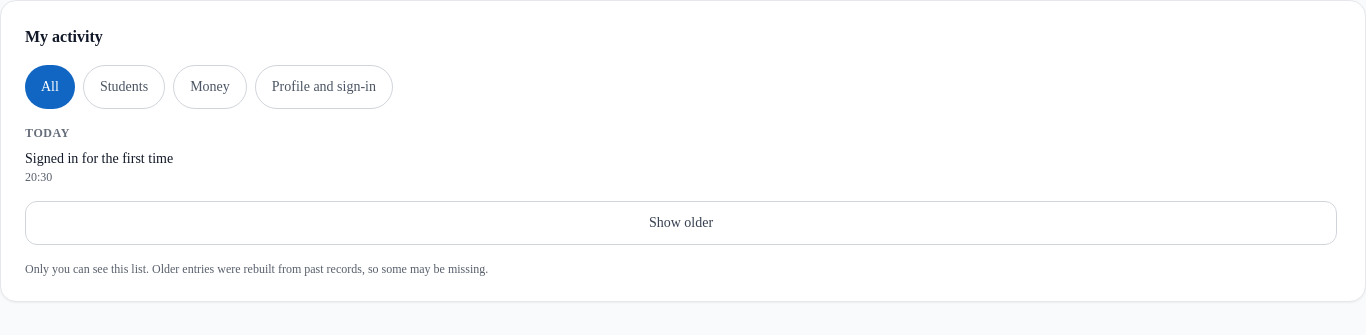
Show older asks for the next page with the cursor, appends it, and goes when there is no more
Click the button "Show older".
click(681, 223)  # box x1=25 y1=201 x2=1337 y2=245
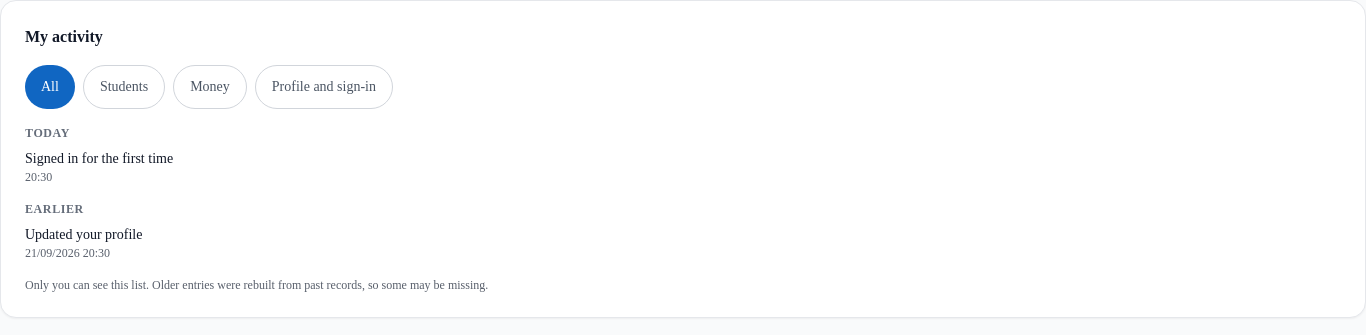
Check: the number of list items with test id "activity-row" is 2, box x1=25 y1=151 x2=173 y2=184; x1=25 y1=227 x2=142 y2=260
Check: the text "Updated your profile" is shown, box x1=25 y1=227 x2=142 y2=242
Check: the button "Show older" is gone
